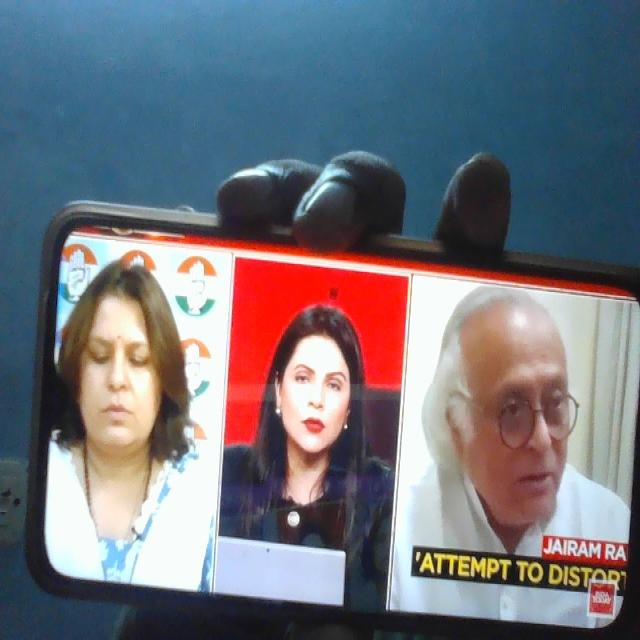fake: (443, 266, 589, 542), (66, 260, 170, 456)
